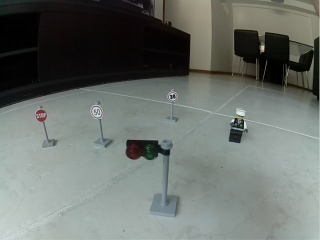Green Traffic Light: (126, 139, 179, 217)
Person: (228, 107, 250, 145)
Speed Limit 30: (167, 91, 179, 102)
Speed Limit 50: (90, 105, 104, 120)
Stop Sign: (35, 109, 47, 121)
